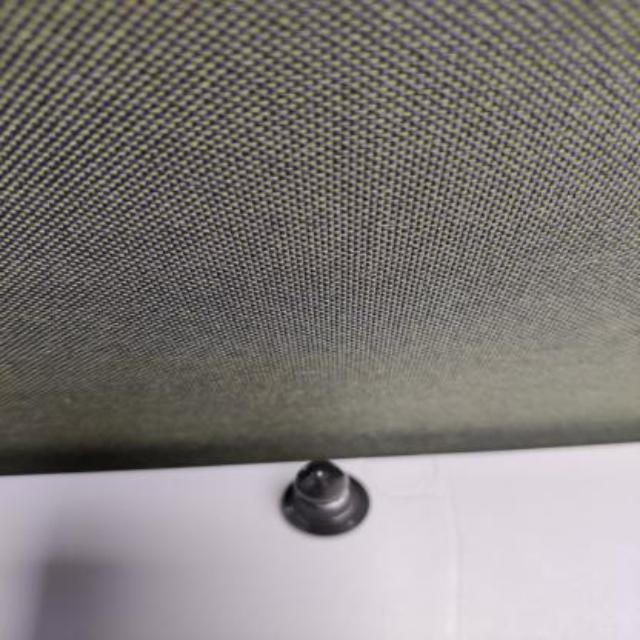black-bishop: (280, 452, 372, 542)
